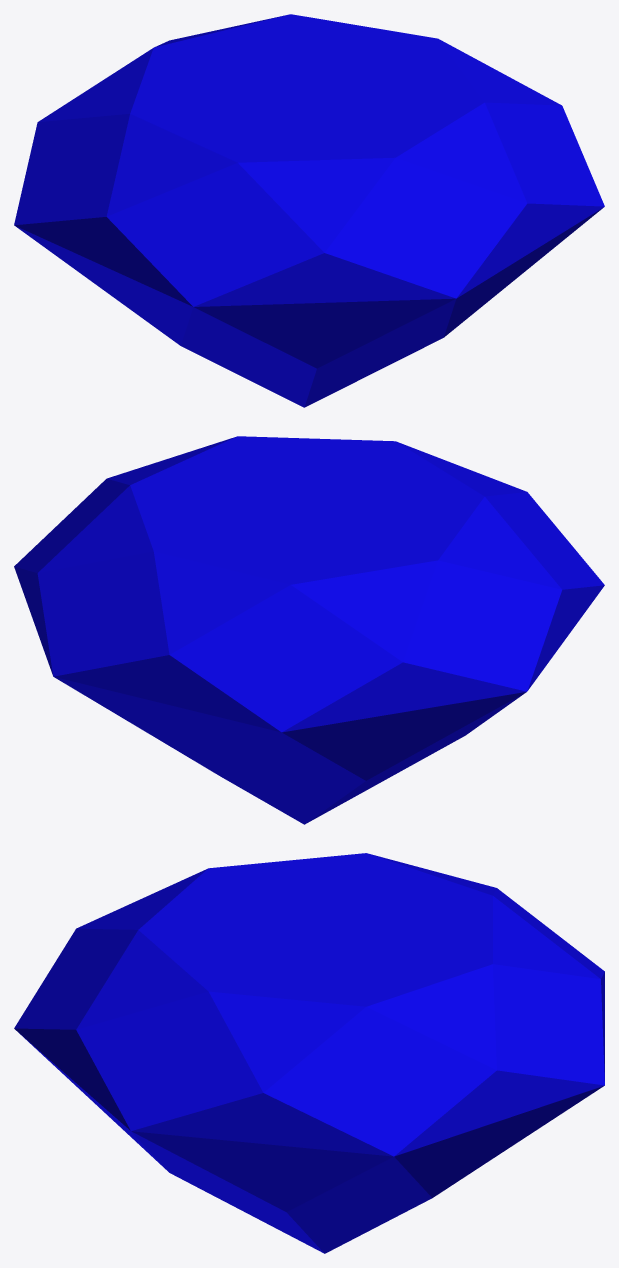
Rendered from Gem_003.fbx.
3 renders of one model, top to bottom at view 1: azimuth 30°, elevation 25°; view 2: azimuth 150°, elevation 25°; view 3: azimuth 270°, elevation 25°, orthographic. The views are drawn at different scales.
Visible parts, largest first — view 1: Gem.003; view 2: Gem.003; view 3: Gem.003.
Boxes of the visible parts, x1,y1,x2,y2 form: Gem.003: (14, 14, 604, 407); Gem.003: (14, 436, 604, 824); Gem.003: (14, 853, 604, 1253).
Bounding box in the file's own units: 195 × 115 × 190.
